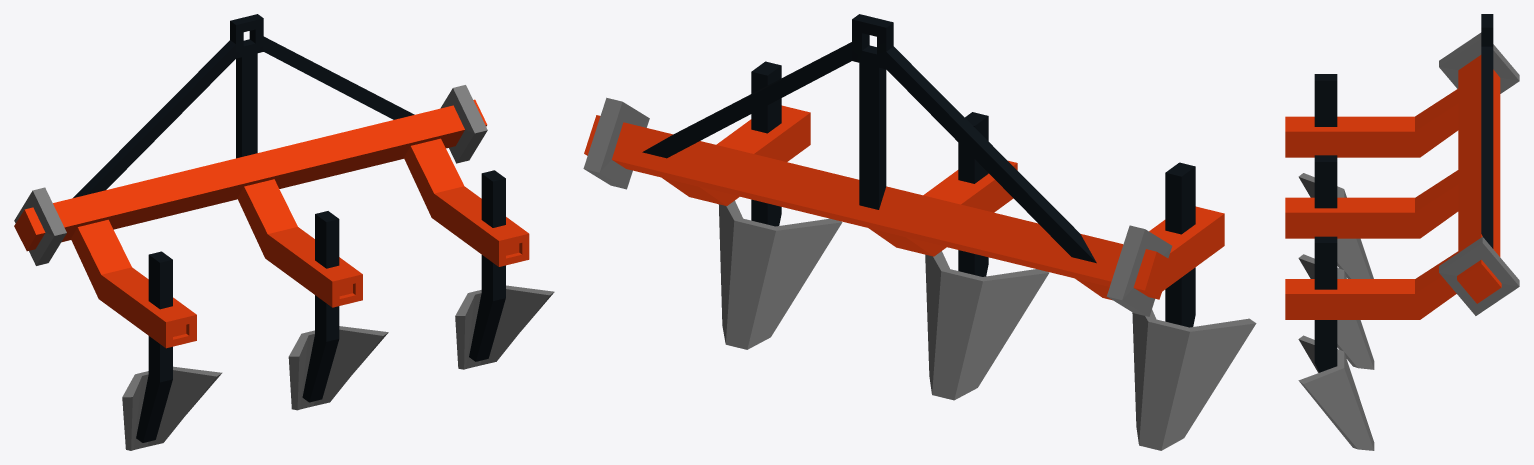
Rendered from Agricultural_Machine_1.fbx.
The picture shows the model from 3 angles, left to right: view 1: azimuth 30°, elevation 25°; view 2: azimuth 150°, elevation 25°; view 3: azimuth 270°, elevation 25°; orthographic projection. The views are drawn at different scales.
Parts seen in each view (by area): view 1: Agricultural_Machine_1; view 2: Agricultural_Machine_1; view 3: Agricultural_Machine_1.
Boxes of the visible parts, x1,y1,x2,y2 form: Agricultural_Machine_1: [14, 14, 554, 450]; Agricultural_Machine_1: [583, 14, 1256, 450]; Agricultural_Machine_1: [1285, 14, 1519, 450].
Size of the model in its own units: 97.13 by 70.86 by 43.66.
